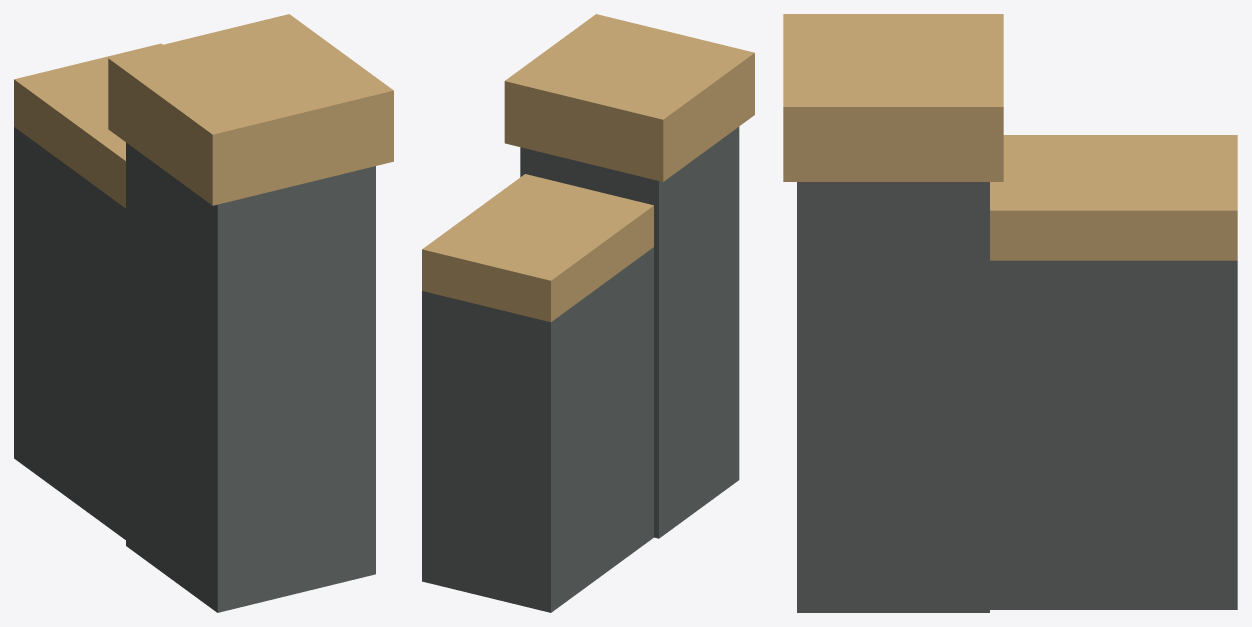
The model's file is SmartWallEnd.fbx.
The picture shows the model from 3 angles, left to right: view 1: azimuth 30°, elevation 25°; view 2: azimuth 150°, elevation 25°; view 3: azimuth 270°, elevation 25°; orthographic projection. The views are drawn at different scales.
Parts seen in each view (by area): view 1: SmartWallEnd; view 2: SmartWallEnd; view 3: SmartWallEnd.
Part boxes in pixels (x1,y1,x2,y2): SmartWallEnd: (14, 14, 393, 612); SmartWallEnd: (422, 14, 754, 612); SmartWallEnd: (783, 14, 1237, 612).
Bounding box in the file's own units: 32 × 82 × 66.
